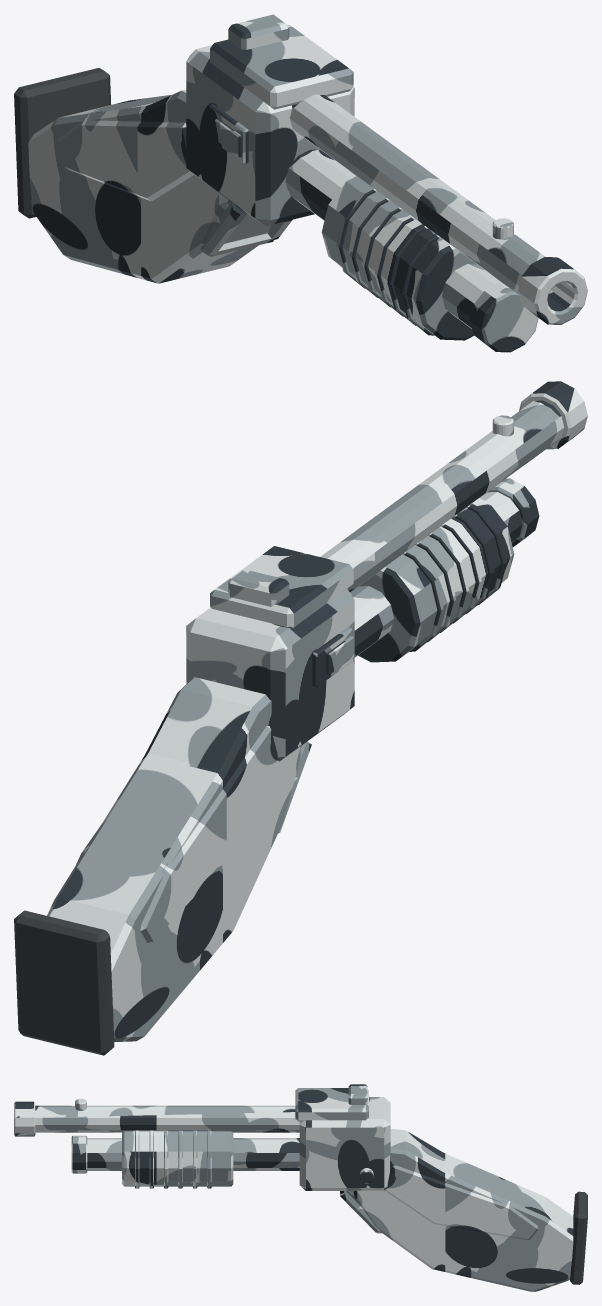
Rendered from Remington870_SnowCamo.glb.
The picture shows the model from 3 angles, top to bottom: view 1: azimuth 30°, elevation 25°; view 2: azimuth 150°, elevation 25°; view 3: azimuth 270°, elevation 25°; orthographic projection. The views are drawn at different scales.
Visible parts, largest first — view 1: FTF_Weapon_Remington870_RuralCamo_Mesh; view 2: FTF_Weapon_Remington870_RuralCamo_Mesh; view 3: FTF_Weapon_Remington870_RuralCamo_Mesh.
Part boxes in pixels (x1,y1,x2,y2): FTF_Weapon_Remington870_RuralCamo_Mesh: (14, 14, 587, 352); FTF_Weapon_Remington870_RuralCamo_Mesh: (14, 381, 587, 1055); FTF_Weapon_Remington870_RuralCamo_Mesh: (14, 1084, 587, 1291).
Size of the model in its own units: 0.271 by 0.7341 by 1.99.
2 materials, 1 textured.
